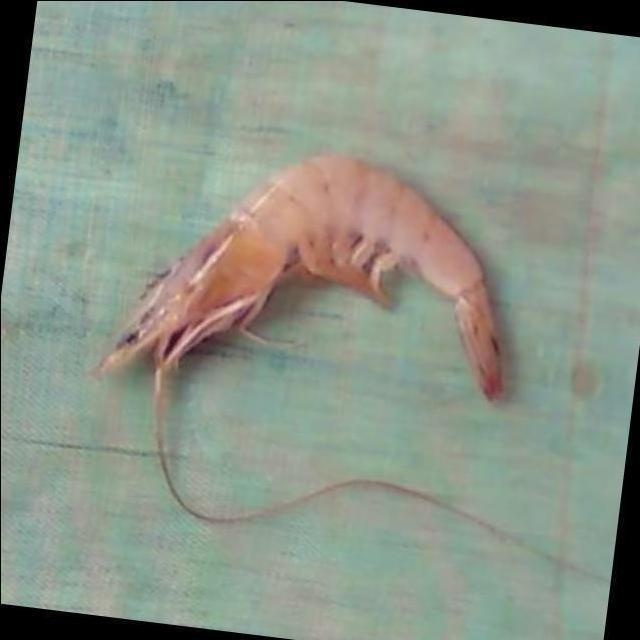shrimp: (94, 154, 505, 399)
